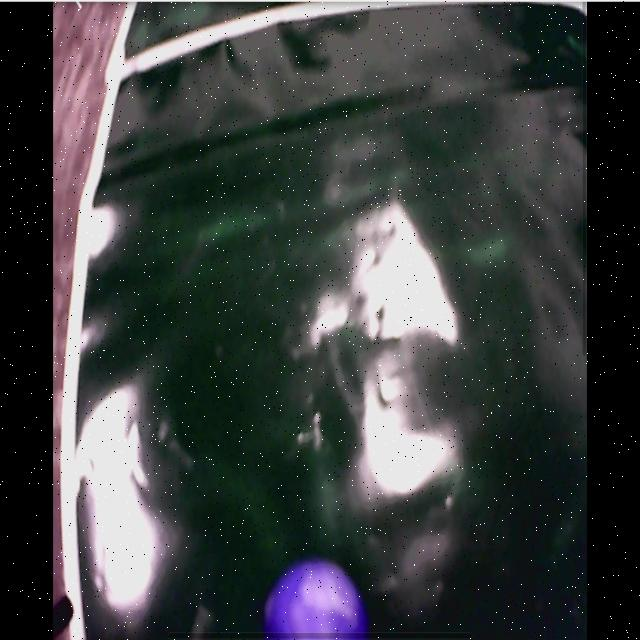ball: (264, 563, 365, 640)
